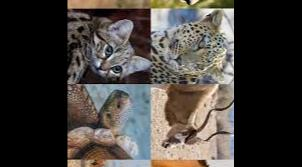Non_Gorille: (67, 0, 234, 167)
